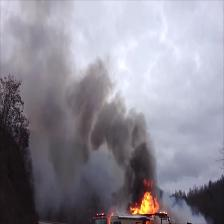fire: (133, 190, 158, 214)
smoke: (18, 0, 78, 118), (79, 60, 115, 152), (117, 108, 155, 188)
